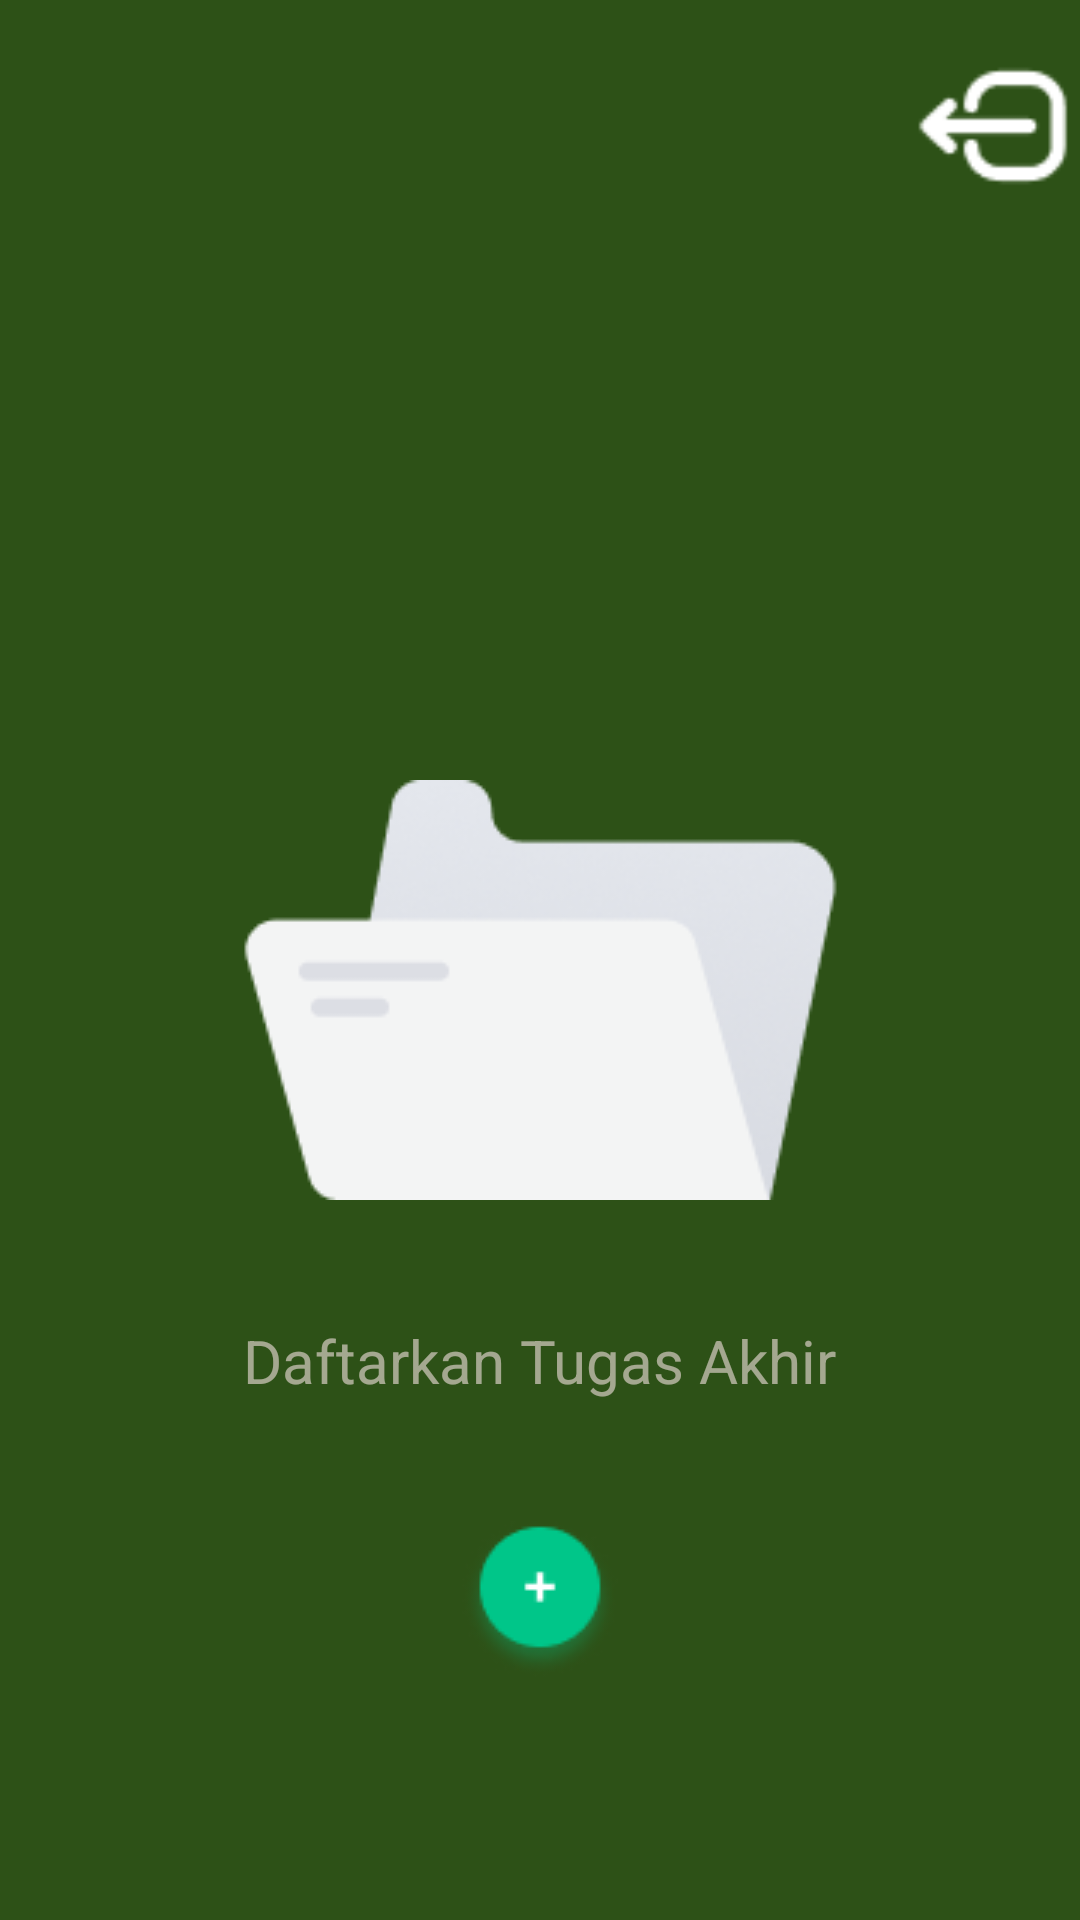

Icon bounding boxes for this 1080w x 1920h phone screenshot, format (x1, y1, x2, y2):
tambah: (479, 1526, 601, 1655)
